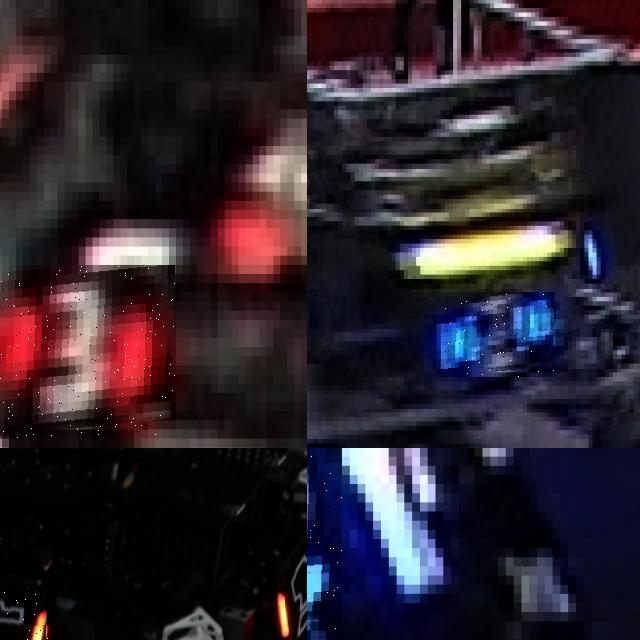B2: (445, 292, 555, 377)
B3: (307, 448, 342, 630)
R3: (0, 264, 176, 438)
Rs: (278, 545, 307, 640), (0, 587, 48, 640)
